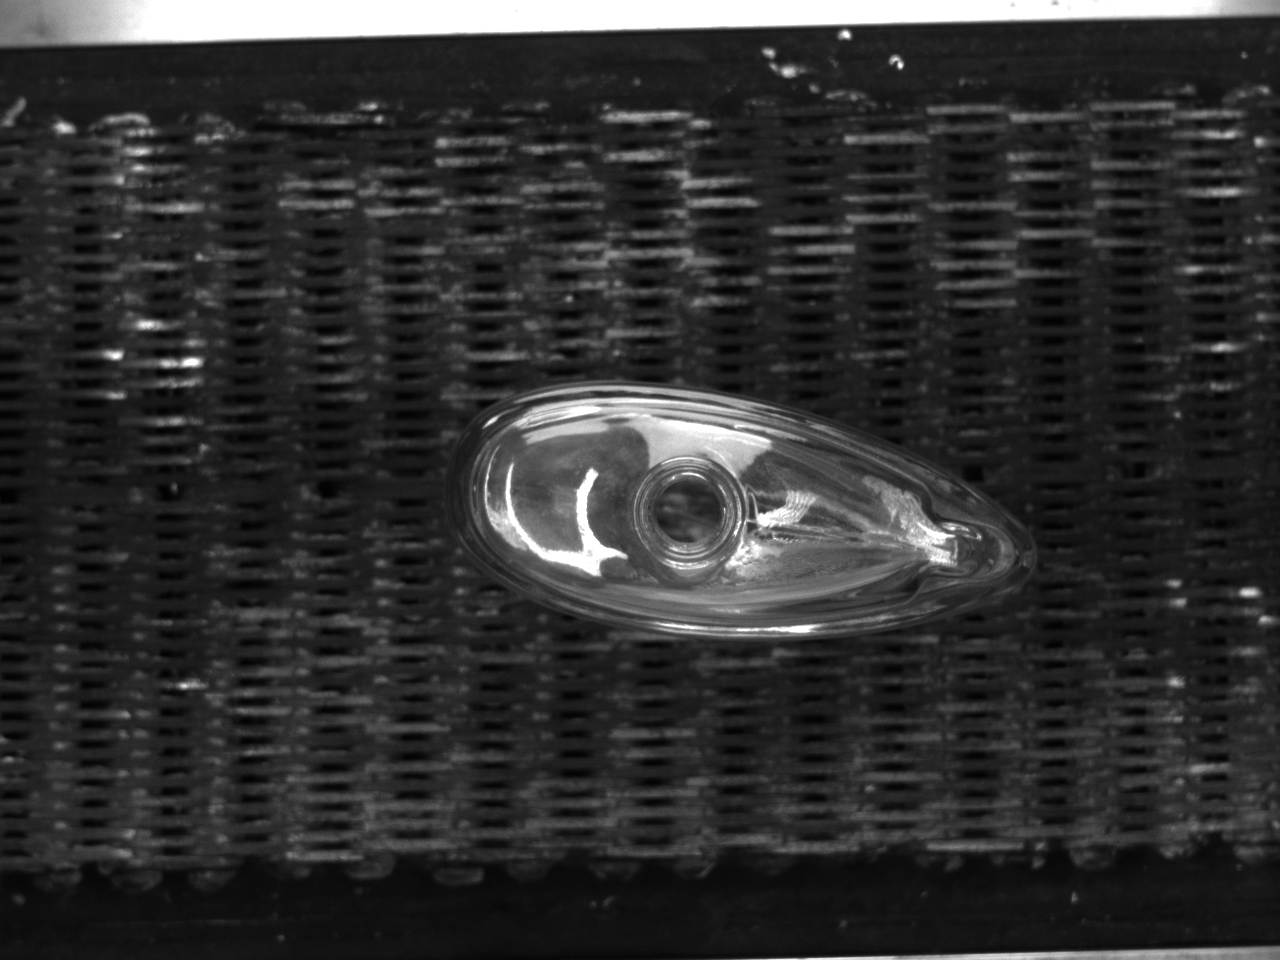bottleneck: (637, 457, 745, 566)
